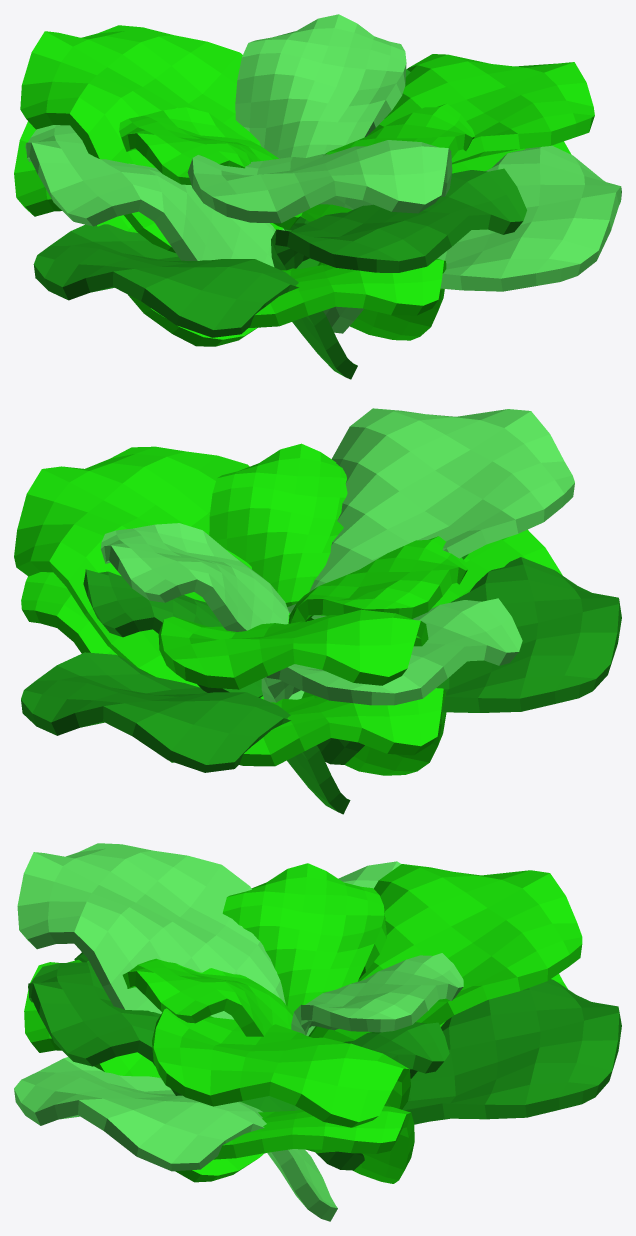
File: latooc.fbx
The picture shows the model from 3 angles, top to bottom: view 1: azimuth 30°, elevation 25°; view 2: azimuth 150°, elevation 25°; view 3: azimuth 270°, elevation 25°; orthographic projection. The views are drawn at different scales.
Visible parts, largest first — view 1: Cylinder; view 2: Cylinder; view 3: Cylinder.
Part boxes in pixels (box(x1,y1,x2,y2)): Cylinder: box(14, 14, 621, 379); Cylinder: box(14, 408, 621, 814); Cylinder: box(14, 843, 621, 1221).
Size of the model in its own units: 96.78 by 47.27 by 96.02.
